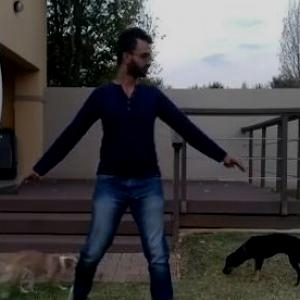land: (22, 24, 230, 299)
